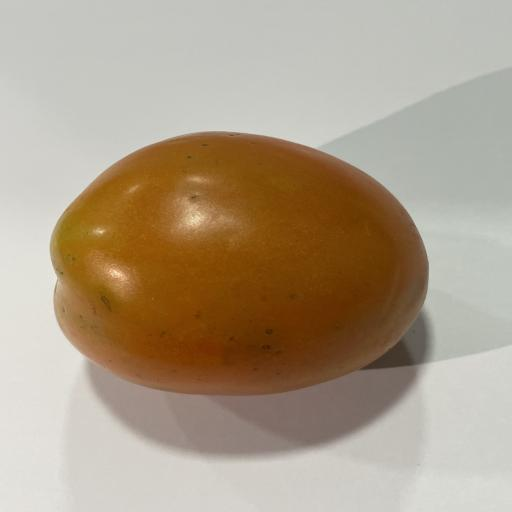unripe: (51, 132, 426, 395)
